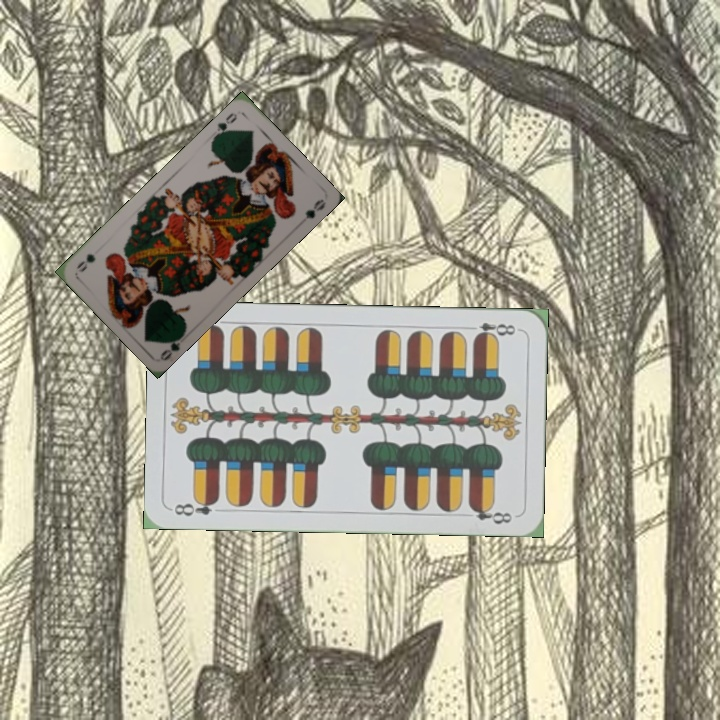E8: (462, 318, 518, 342), (170, 494, 222, 519)
GO: (157, 327, 188, 362), (209, 108, 240, 142)
